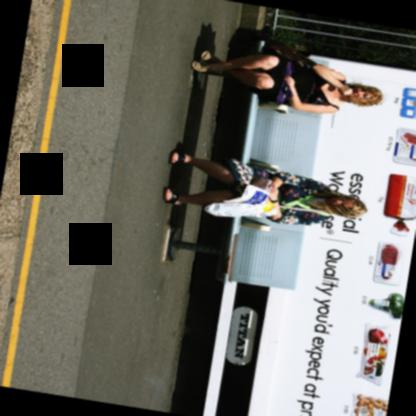handbag: (261, 60, 295, 108), (259, 39, 316, 67), (247, 177, 270, 195)
